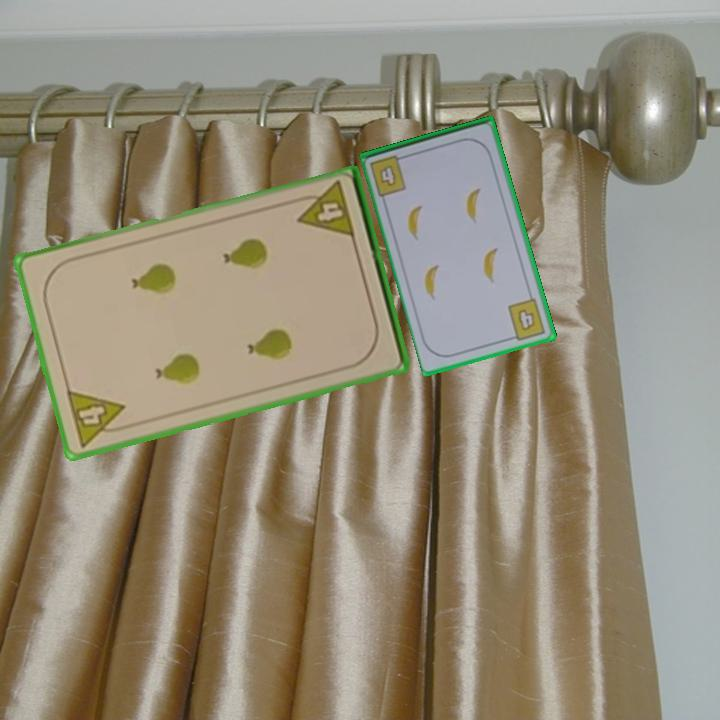4b: (366, 151, 411, 199), (504, 295, 548, 343)
4p: (62, 386, 133, 450), (290, 178, 358, 242)
